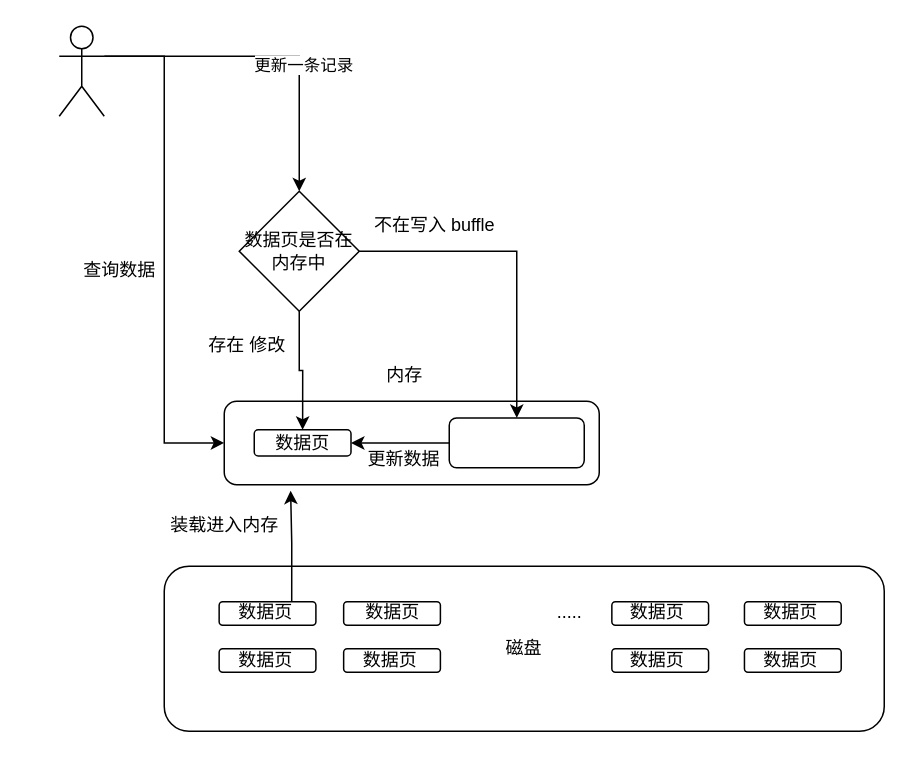
This 911x758 diagram has some shape labels left out. The centre of each missing label's shape, as x and y in pixels:
change buffle: point (516, 442)
SQL 语句更新: point (81, 70)
